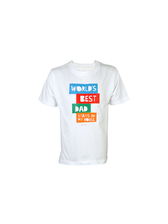clothoes: (38, 57, 127, 171)
